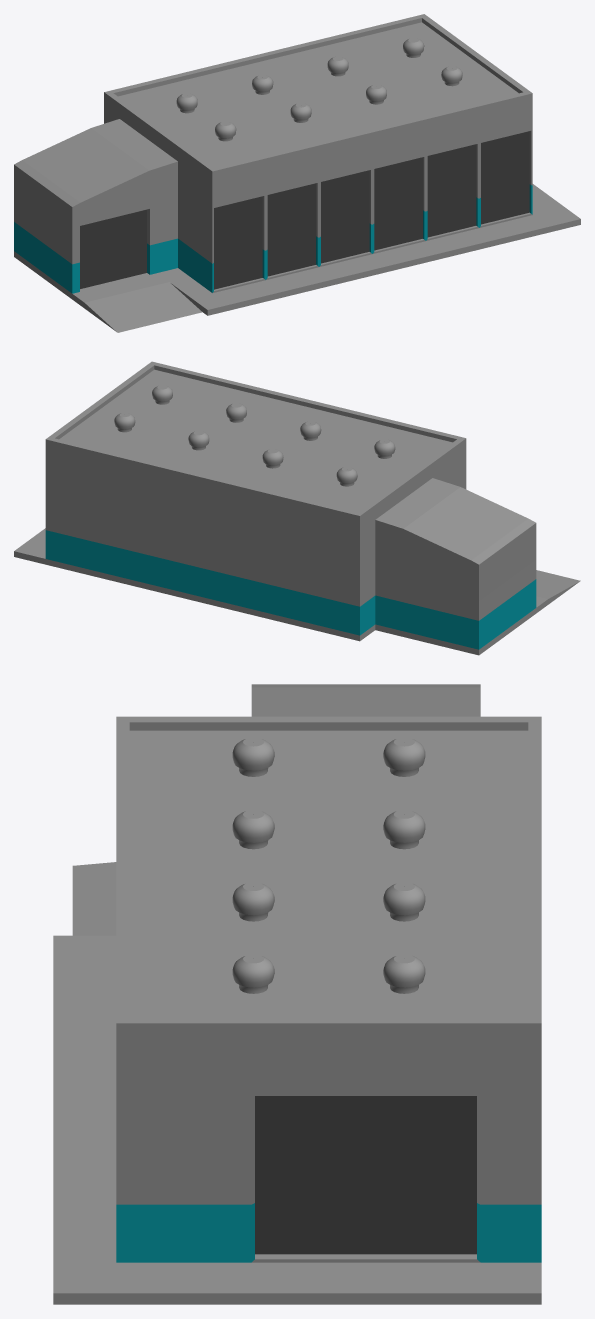
Rendered from supermercado_v2.FBX.
3 views of the same model, one above another, from view 1: azimuth 30°, elevation 25°; view 2: azimuth 150°, elevation 25°; view 3: azimuth 270°, elevation 25° (orthographic). The views are drawn at different scales.
Visible parts, largest first — view 1: Box001, Object001; view 2: Box001, Object001; view 3: Box001, Object001.
Boxes of the visible parts, box(x1,y1,x2,y2) form: Box001: box(14, 14, 580, 332); Object001: box(176, 38, 462, 141); Box001: box(14, 361, 580, 655); Object001: box(114, 385, 395, 486); Box001: box(53, 684, 541, 1304); Object001: box(232, 737, 425, 993).
Bounding box in the file's own units: 190 × 54.64 × 89.22.
